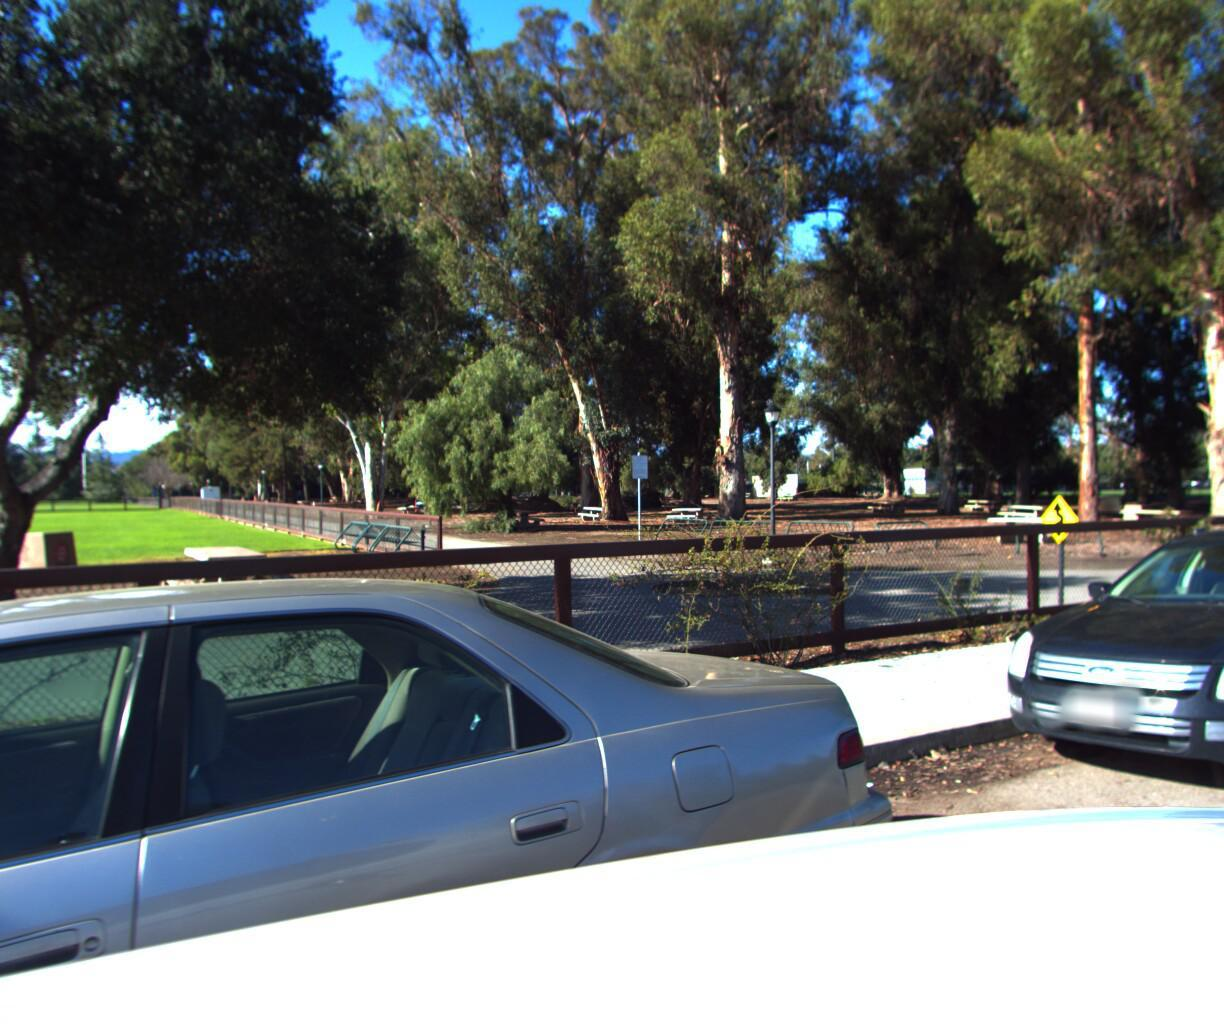car: (0, 537, 975, 1024), (967, 506, 1224, 859)
